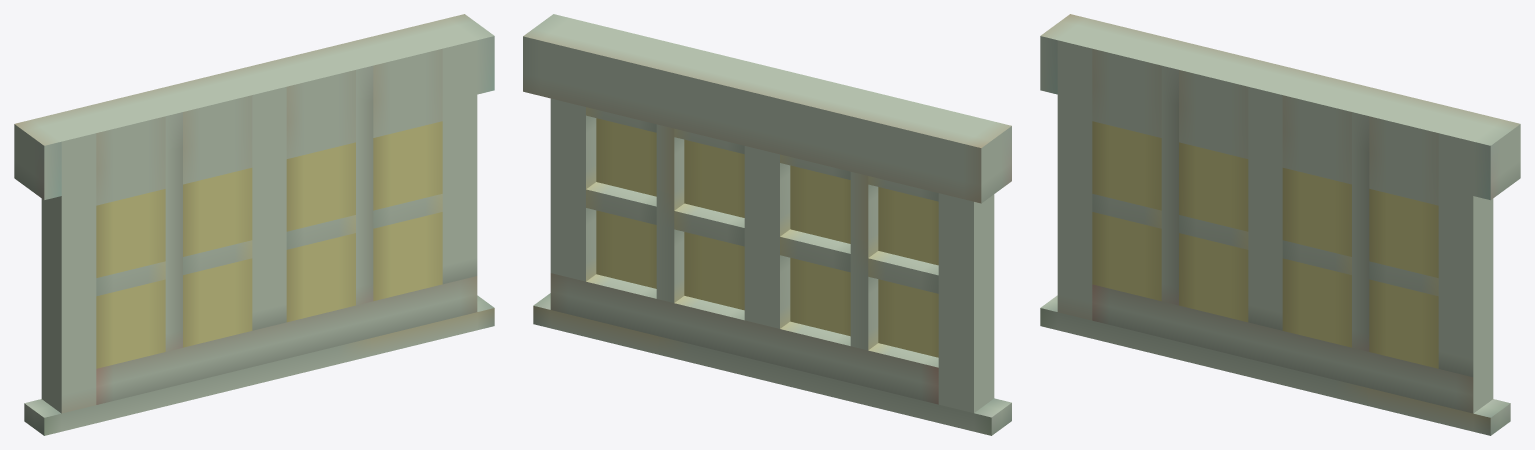
Rendered from WindowFrame4PaneOutside_A_00.fbx.
3 renders of one model, left to right at view 1: azimuth 30°, elevation 25°; view 2: azimuth 150°, elevation 25°; view 3: azimuth 330°, elevation 25°, orthographic.
Visible parts, largest first — view 1: WindowFrame4PaneOutside_A_00; view 2: WindowFrame4PaneOutside_A_00; view 3: WindowFrame4PaneOutside_A_00.
Boxes of the visible parts, x1,y1,x2,y2 form: WindowFrame4PaneOutside_A_00: [14, 14, 494, 435]; WindowFrame4PaneOutside_A_00: [523, 14, 1011, 435]; WindowFrame4PaneOutside_A_00: [1040, 14, 1520, 435].
Size of the model in its own units: 130 by 15 by 80.
Materials: 2 (2 with a texture image).
